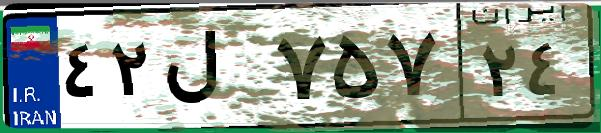2: (475, 38, 525, 113), (110, 28, 158, 98)
4: (57, 26, 110, 100), (525, 38, 570, 115)
5: (330, 28, 385, 110)
7: (270, 28, 330, 110), (385, 28, 445, 110)
ل: (158, 20, 270, 120)
